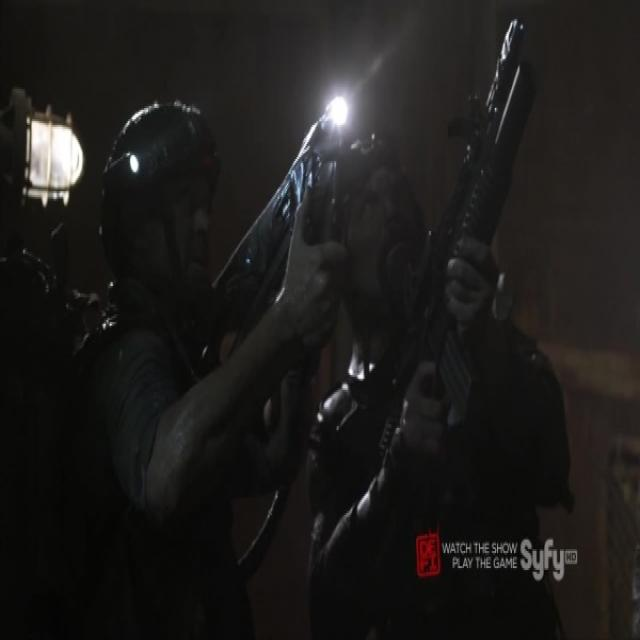rifle: (213, 66, 356, 367)
